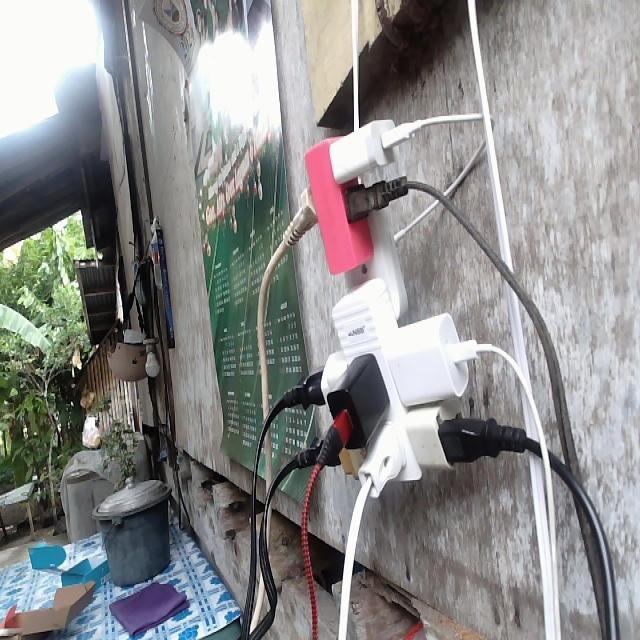-: (275, 114, 492, 502)
